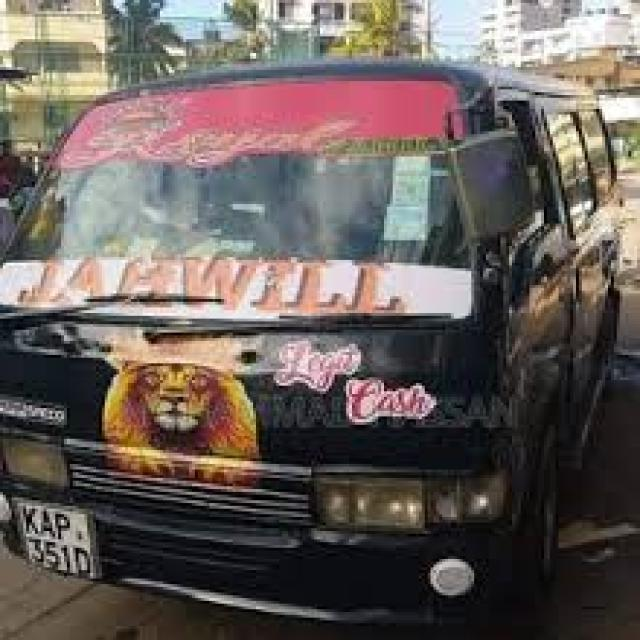matatu: (0, 23, 640, 639)
